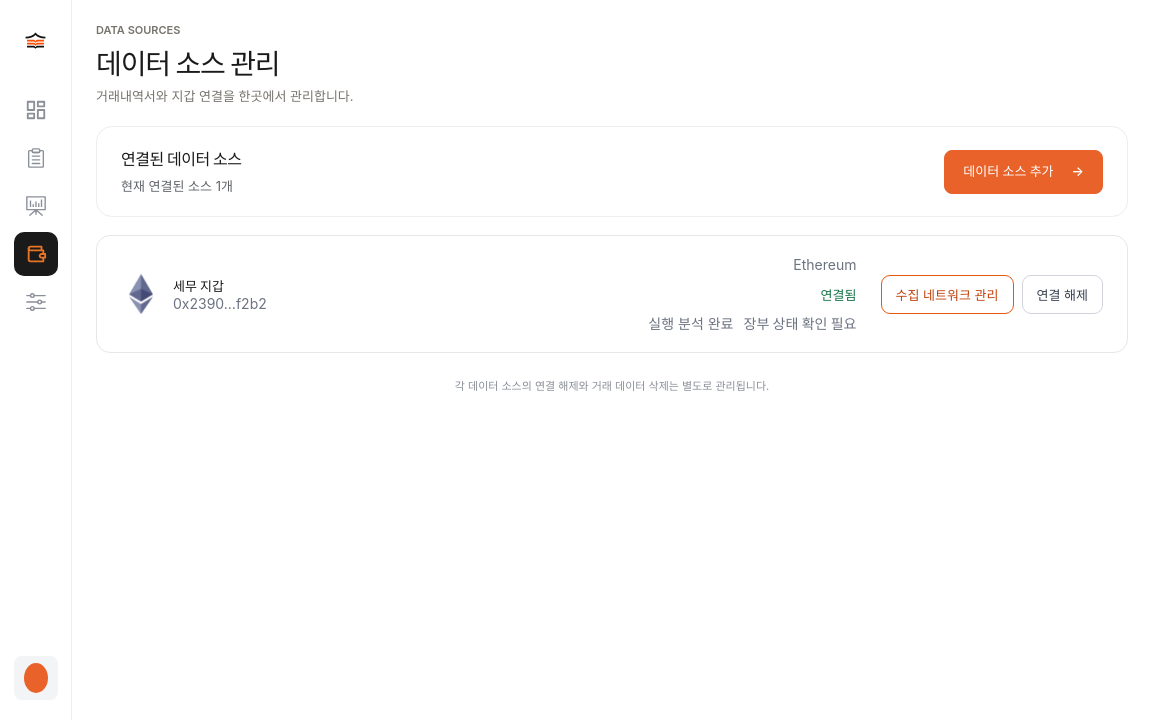
Test case: source flow pages › keeps Optimism available while starting collection for an updated Ethereum period
This screenshot has width=1152, height=720.
Click the button "수집 네트워크 관리" at (947, 294), box [880,274,1014,314]
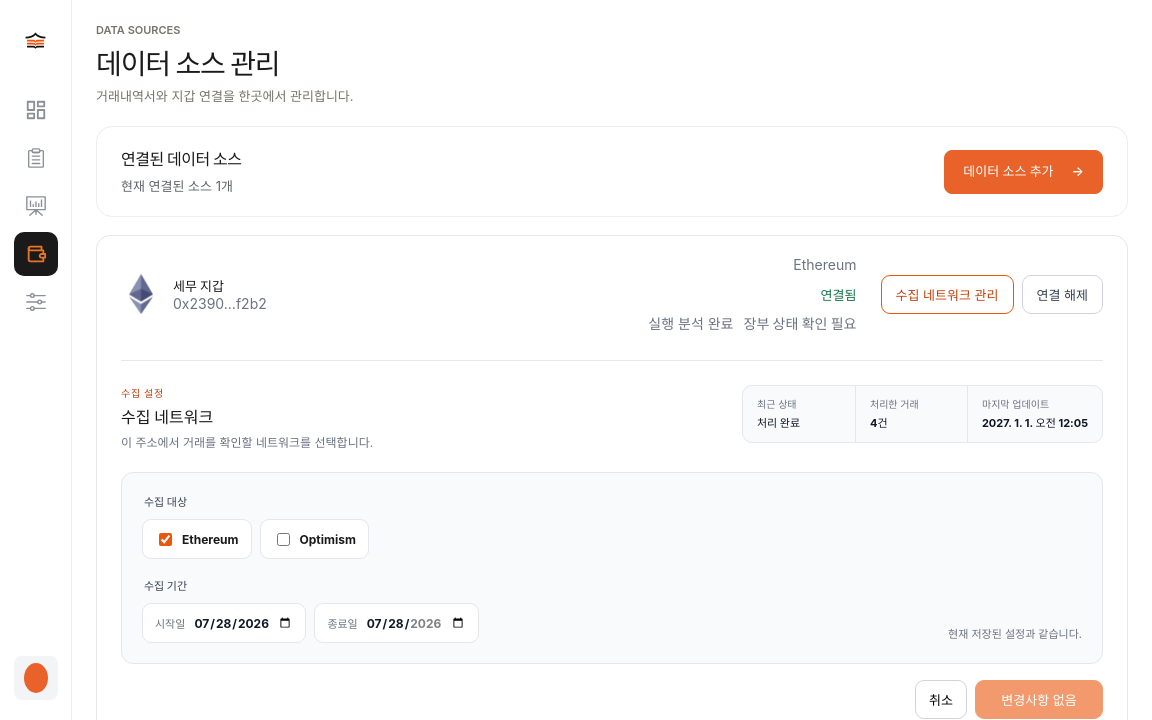
Expected: the checkbox labelled "Ethereum" is checked, [159,532,172,546]
Expected: the checkbox labelled "Optimism" is not checked, [276,532,290,546]
Expected: the checkbox labelled "Optimism" is enabled, [276,532,290,546]
Type "2025-01-01" into the date field named "수집 시작일" at (243, 623), box [192,607,293,639]
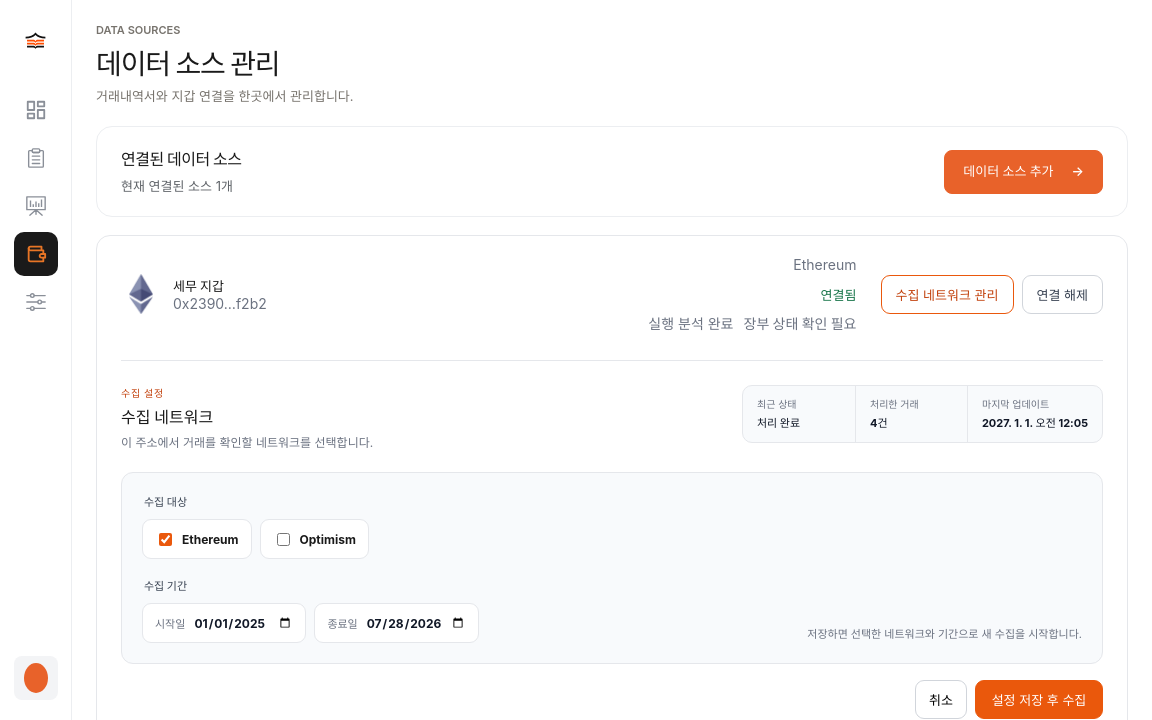
Type "2026-08-11" into the date field named "수집 종료일" at (415, 623), box [365,607,466,639]
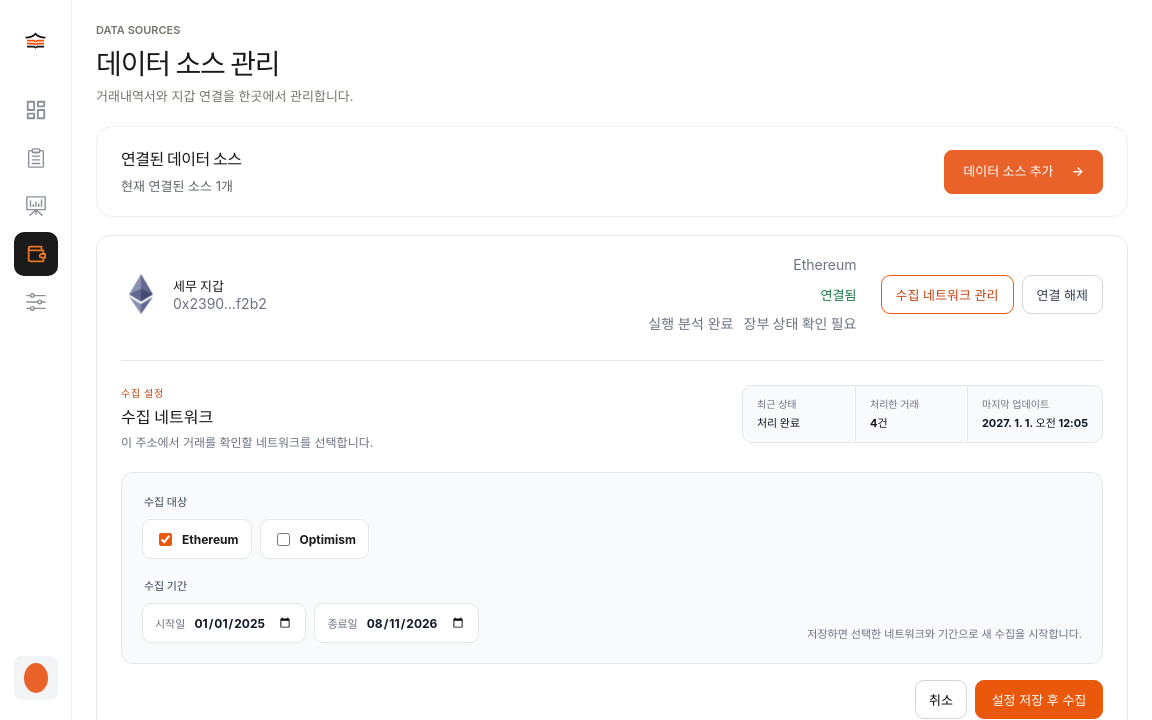
Click the button "설정 저장 후 수집" at (1039, 700), box [975,680,1103,719]
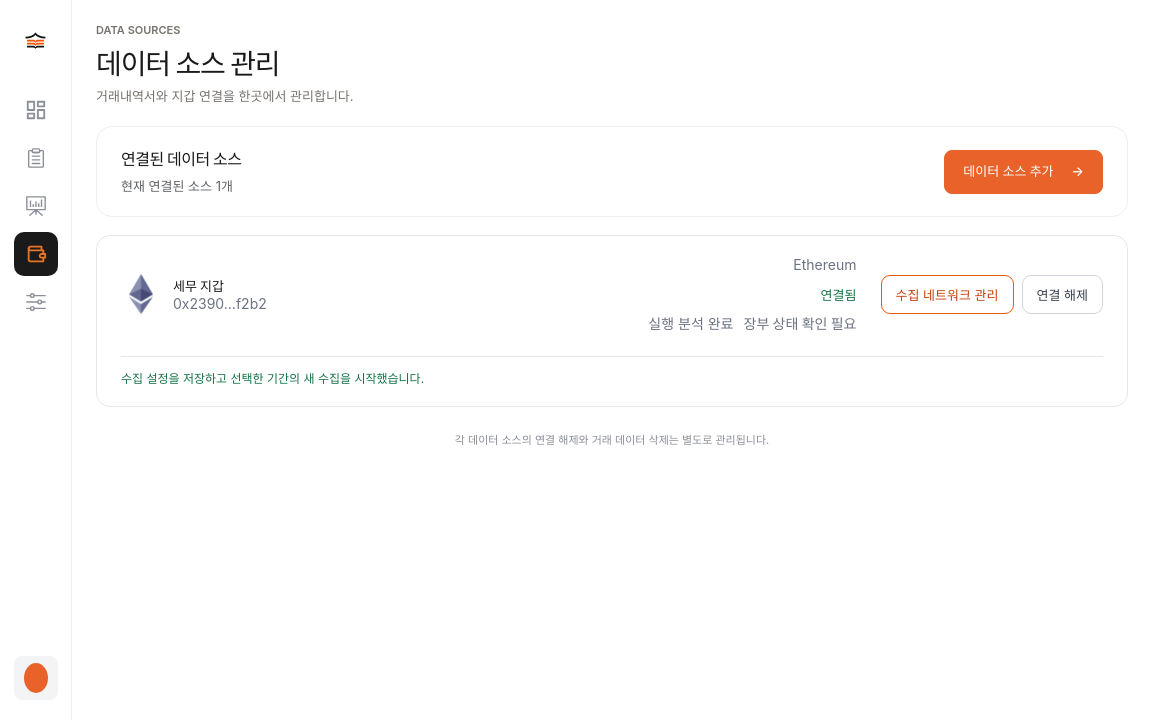
Expected: the text "Ethereum" is shown, [793,256,856,273]
Expected: the message reads "수집 설정을 저장하고 선택한 기간의 새 수집을 시작했습니다.", [121,371,424,386]
